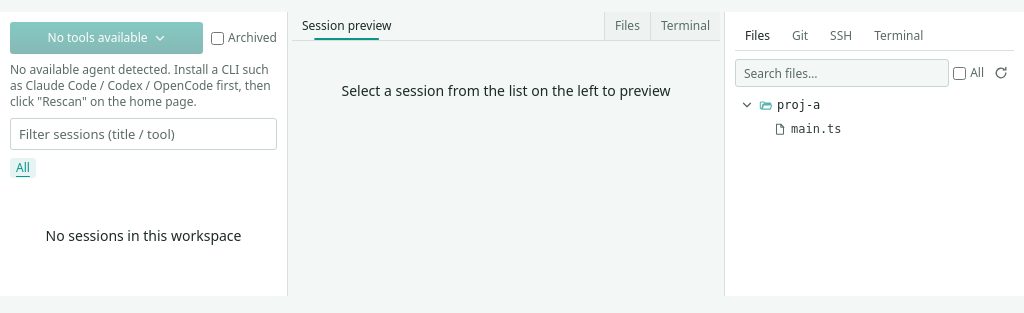
WorkspaceTab › 文件树点文件后预览页签激活并加载内容
Click the button "main.ts". click: (870, 129)
box: [749,119,990,139]
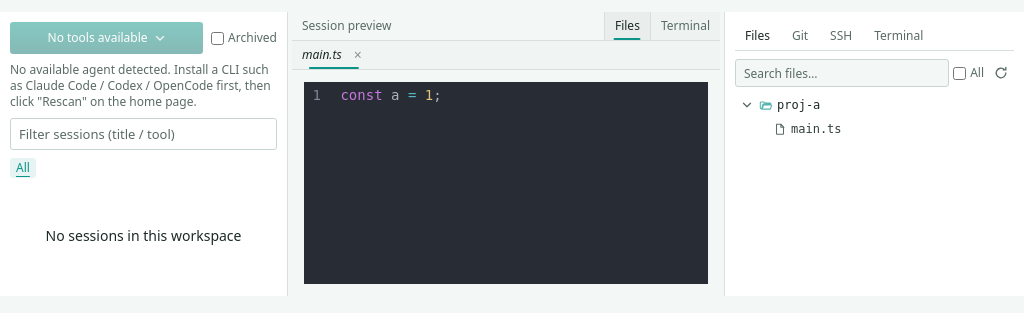
Now the element with test id "code-editor" is shown, box [304,82,708,284]
